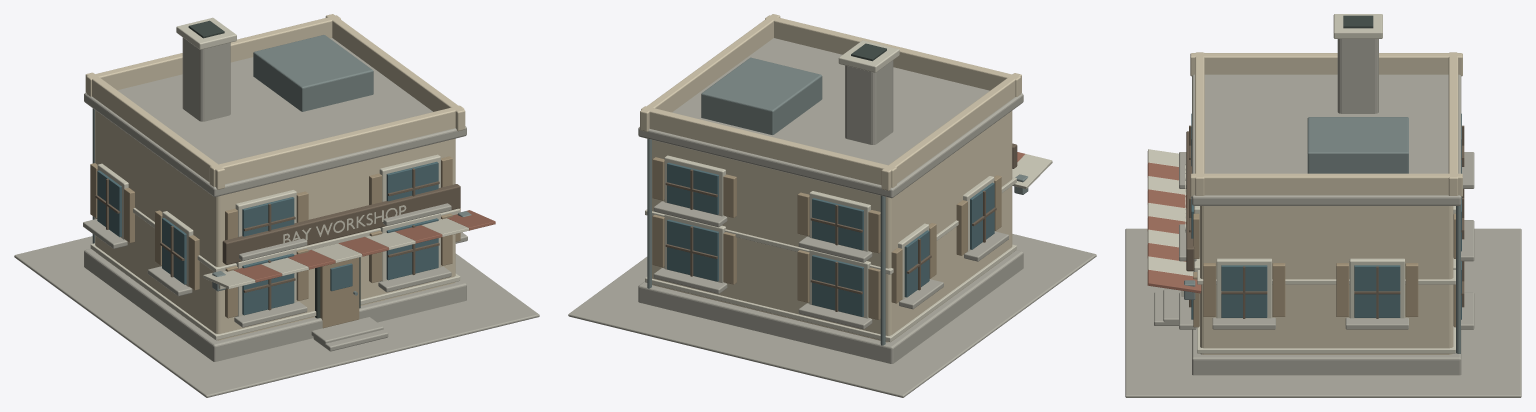
The model's file is district_art_1.glb.
3 views of the same model, side by side, from view 1: azimuth 30°, elevation 25°; view 2: azimuth 150°, elevation 25°; view 3: azimuth 270°, elevation 25° (orthographic). The views are drawn at different scales.
Parts seen in each view (by area): view 1: stone, plaster, trim, glass, wood, metal, timber, cloth, dark; view 2: stone, plaster, glass, trim, metal, wood, timber; view 3: stone, plaster, trim, metal, glass, wood, cloth, timber, dark.
Boxes of the visible parts, left/top/right/bottom form: stone: left=14, top=37, right=539, bottom=397; plaster: left=85, top=14, right=465, bottom=340; trim: left=90, top=17, right=468, bottom=340; glass: left=97, top=161, right=438, bottom=315; wood: left=90, top=156, right=460, bottom=328; metal: left=92, top=35, right=471, bottom=295; timber: left=95, top=168, right=460, bottom=310; cloth: left=234, top=210, right=495, bottom=282; dark: left=188, top=20, right=360, bottom=318; stone: left=568, top=38, right=1096, bottom=397; plaster: left=640, top=14, right=1021, bottom=342; glass: left=667, top=162, right=994, bottom=316; trim: left=645, top=40, right=1052, bottom=342; metal: left=647, top=57, right=1028, bottom=345; wood: left=652, top=157, right=1001, bottom=319; timber: left=665, top=143, right=1017, bottom=311; stone: left=1125, top=39, right=1521, bottom=397; plaster: left=1190, top=52, right=1462, bottom=354; trim: left=1147, top=14, right=1455, bottom=353; metal: left=1184, top=117, right=1460, bottom=353; glass: left=1191, top=113, right=1461, bottom=319; wood: left=1193, top=213, right=1455, bottom=327; cloth: left=1147, top=162, right=1201, bottom=293; timber: left=1186, top=125, right=1464, bottom=318; dark: left=1343, top=15, right=1373, bottom=28.
Bounding box in the file's own units: 12.5 × 9.29 × 12.5.
